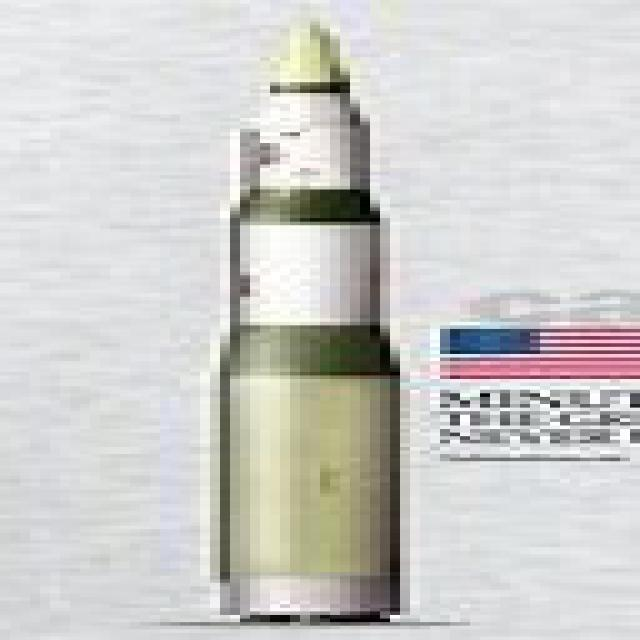missile: (214, 17, 408, 637)
